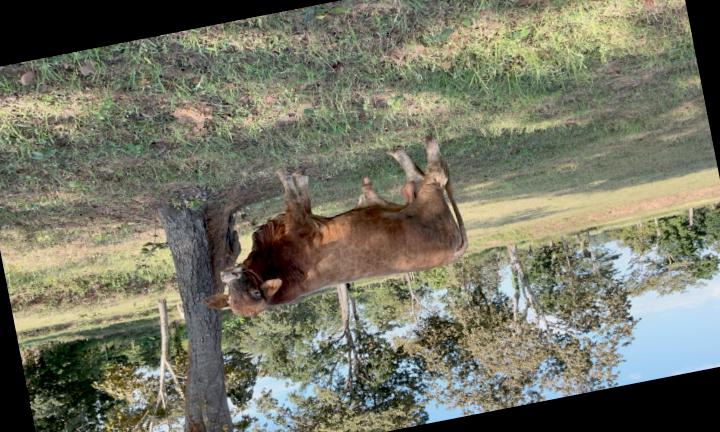Charolais: (202, 136, 467, 316)
